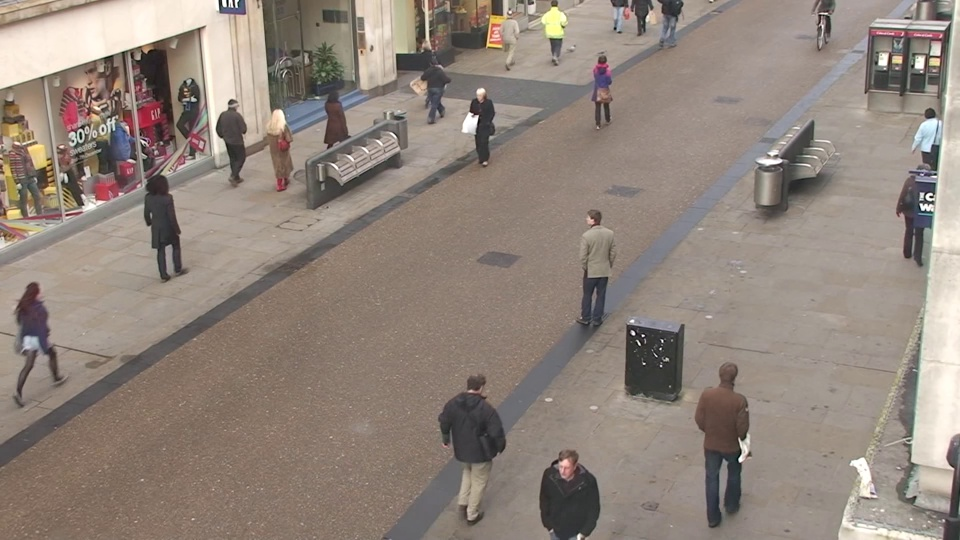pedestrian: (8, 274, 73, 410), (698, 353, 753, 511), (452, 361, 504, 519), (537, 441, 593, 540), (137, 171, 182, 278), (576, 203, 614, 323), (902, 103, 948, 200), (263, 104, 298, 195), (218, 94, 253, 181), (318, 87, 350, 173), (467, 84, 498, 172), (420, 54, 448, 132), (589, 52, 615, 130), (413, 38, 440, 112), (497, 7, 520, 72)
